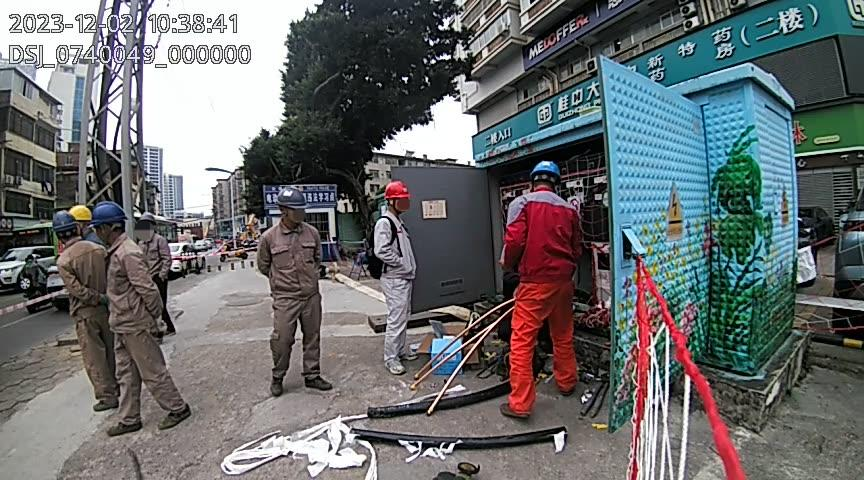halt: (92, 204, 131, 243), (279, 189, 310, 227), (385, 183, 414, 216), (532, 163, 564, 192), (54, 211, 80, 242), (72, 206, 94, 237), (139, 212, 157, 239)
inear: (389, 200, 402, 214)
noear: (283, 209, 294, 224)
